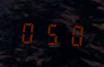five: (41, 19, 62, 47)
zero: (18, 18, 39, 46), (63, 20, 84, 48)
